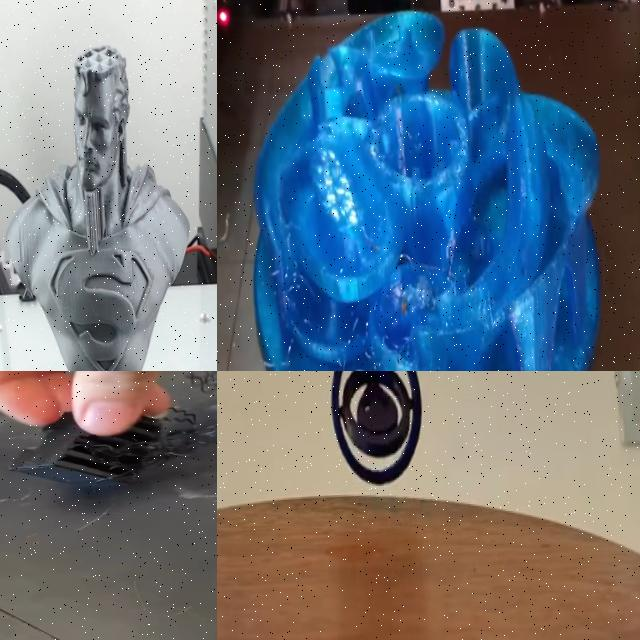spaghetti: (262, 126, 538, 371), (217, 214, 232, 269)
